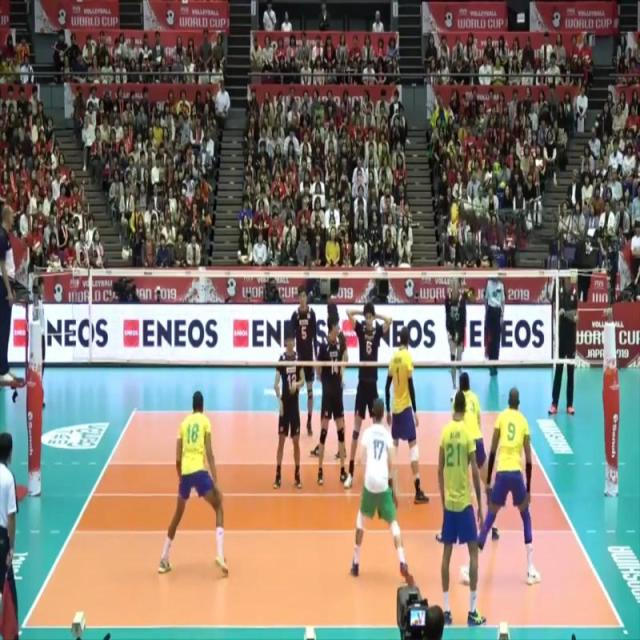volleyball: (448, 202, 461, 236)
